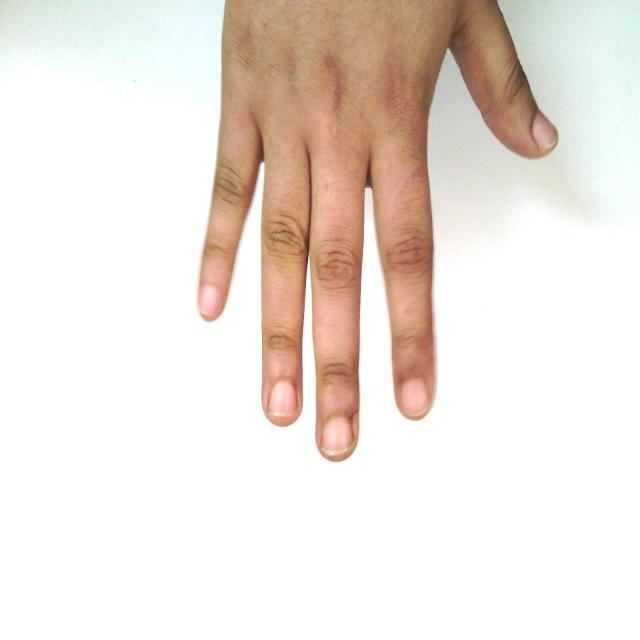Fingernail: (322, 418, 351, 454), (400, 379, 428, 413), (269, 381, 296, 416), (533, 114, 557, 152), (201, 287, 220, 315)
